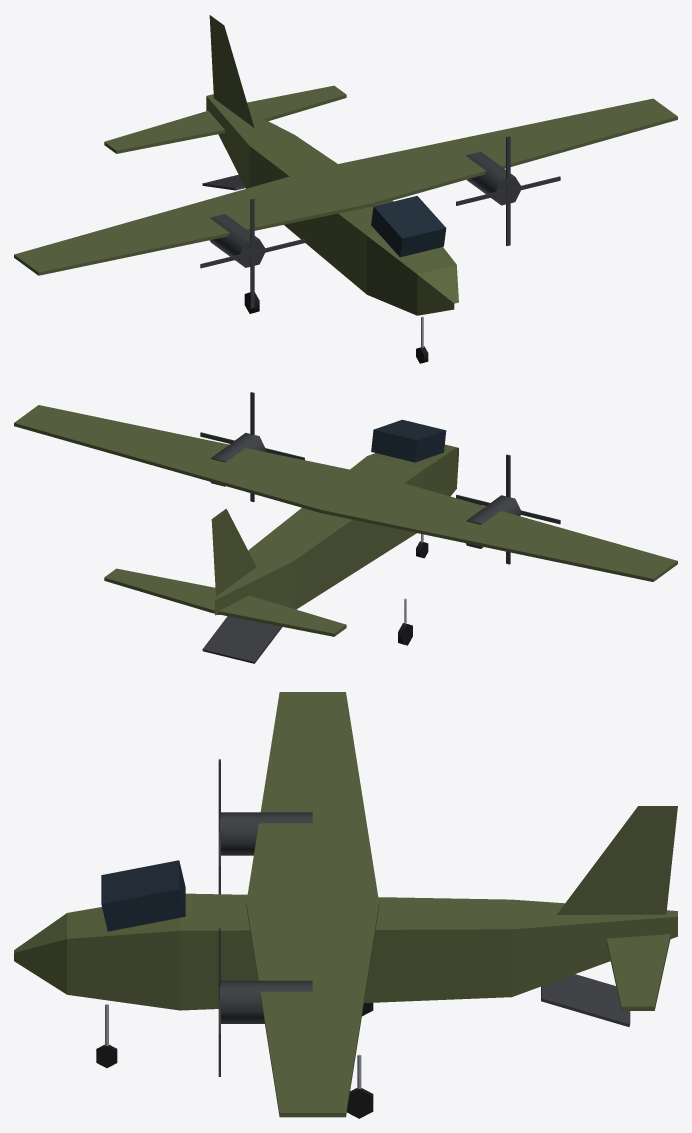
Rendered from veh_air_transport_plane_a06_lod2.glb.
3 views of the same model, one above another, from view 1: azimuth 30°, elevation 25°; view 2: azimuth 150°, elevation 25°; view 3: azimuth 270°, elevation 25° (orthographic). The views are drawn at different scales.
Parts seen in each view (by area): view 1: body, propeller_1, propeller_0; view 2: body, ramp, propeller_0, propeller_1; view 3: body, ramp, gear_2.
Part boxes in pixels (x1,y1,x2,y2): body: [14, 15, 677, 315]; propeller_1: [456, 136, 560, 245]; propeller_0: [200, 198, 304, 308]; body: [14, 405, 677, 636]; ramp: [202, 616, 282, 663]; propeller_0: [456, 454, 560, 564]; propeller_1: [200, 392, 304, 501]; body: [14, 692, 677, 1117]; ramp: [541, 974, 630, 1026]; gear_2: [347, 1054, 373, 1118].
Size of the model in its own units: 24.72 by 7.16 by 16.48.
